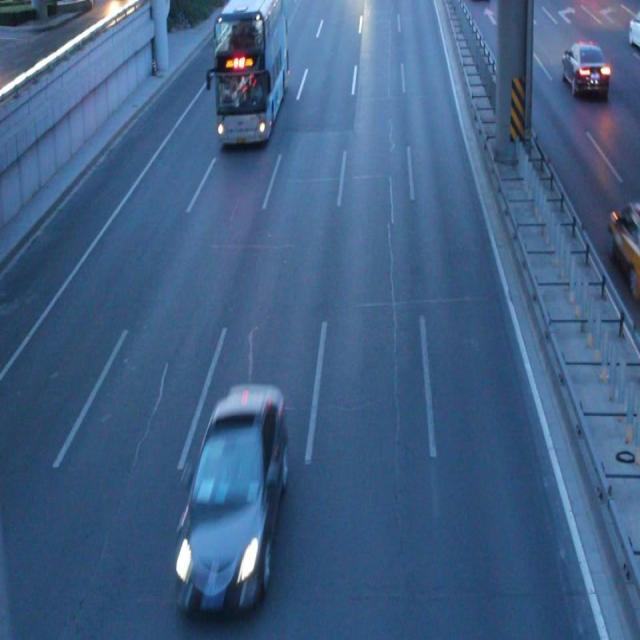car: (173, 386, 282, 589), (608, 200, 640, 282), (562, 42, 608, 94)
van: (212, 1, 288, 145)
